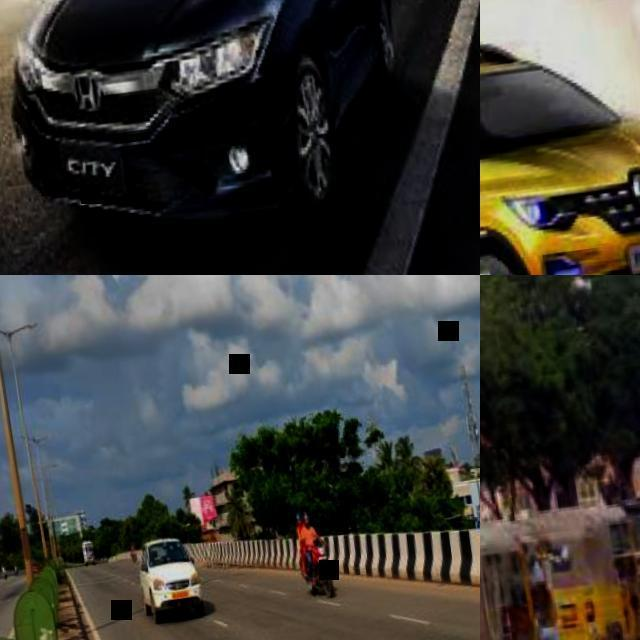car: (378, 25, 639, 275), (9, 0, 286, 223), (140, 537, 204, 622)
